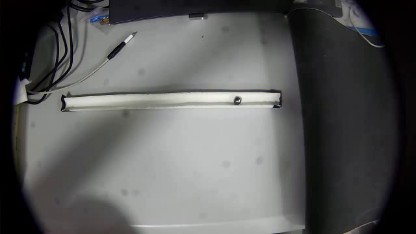gangzhu: (230, 96, 241, 107)
